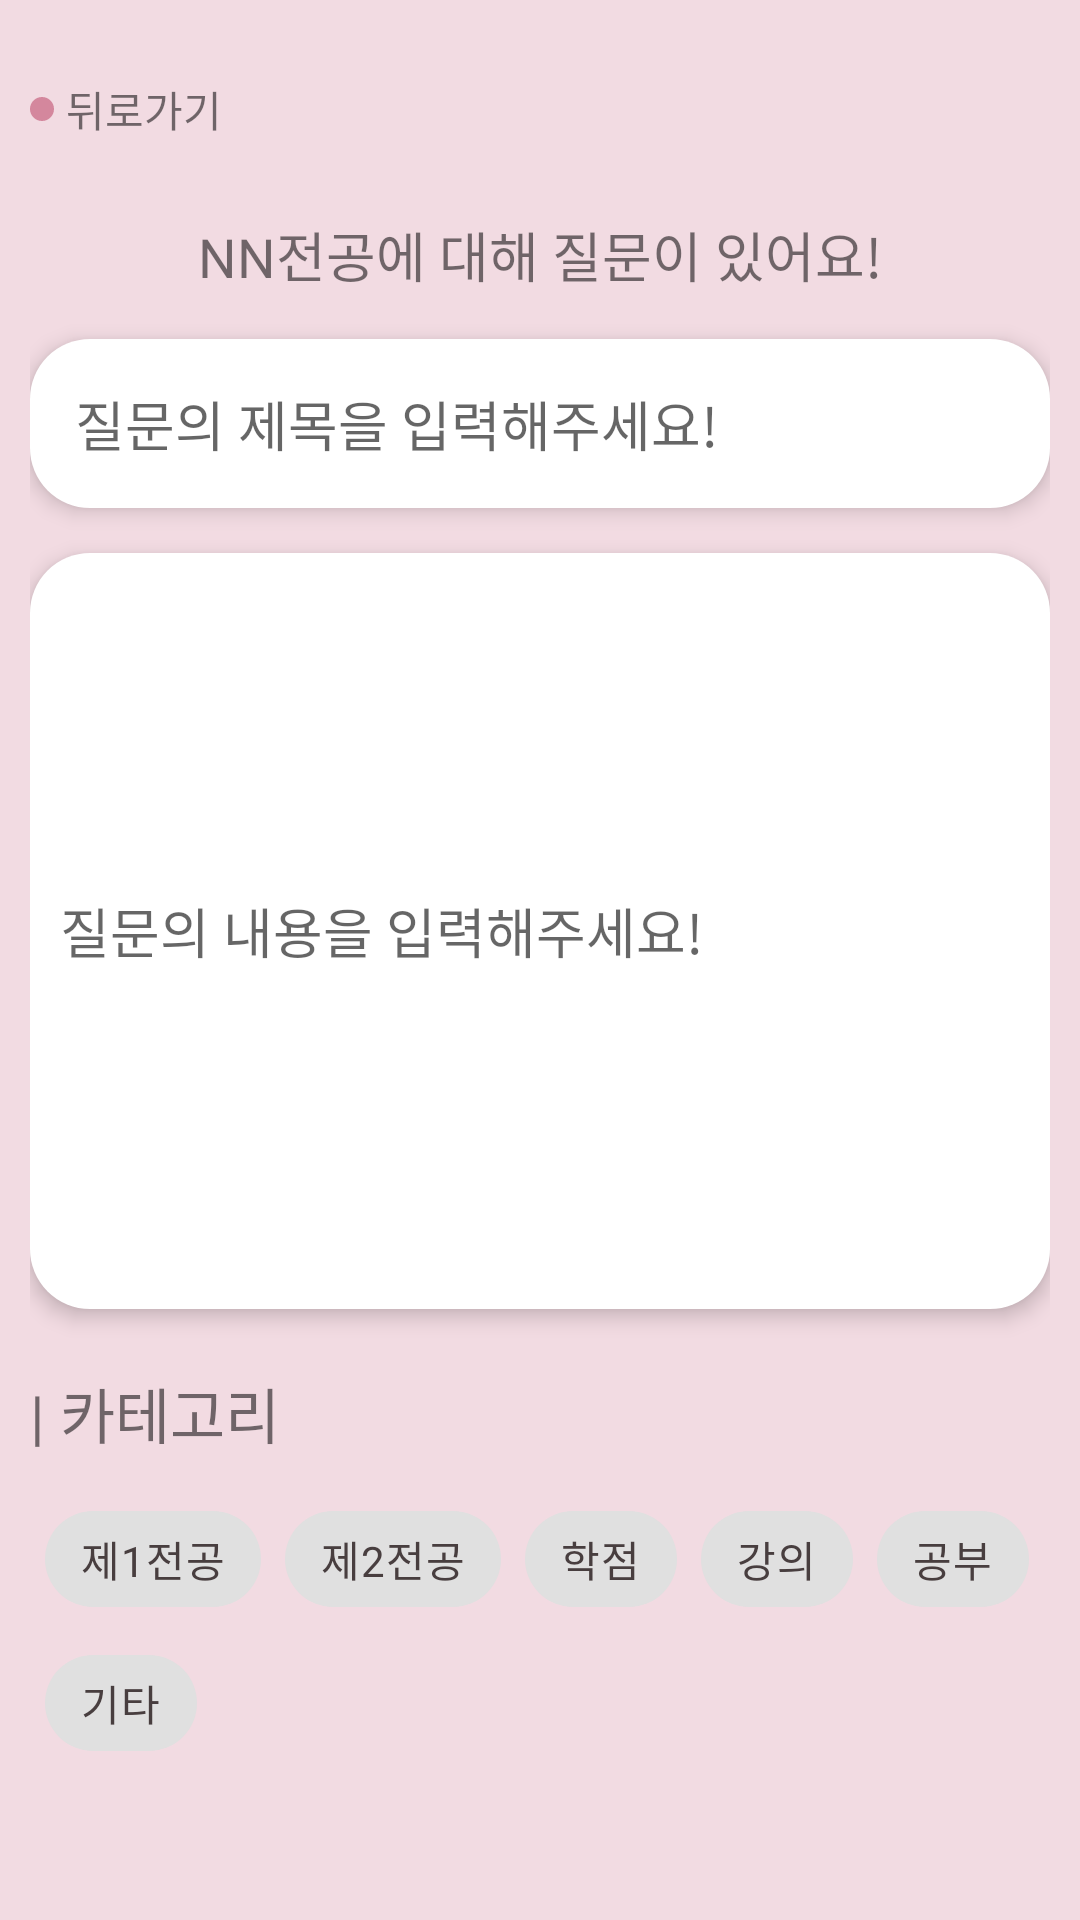

Point at icon controls on the screen. Image size 1080×1920, points as (x,y).
dot: (42,109)
